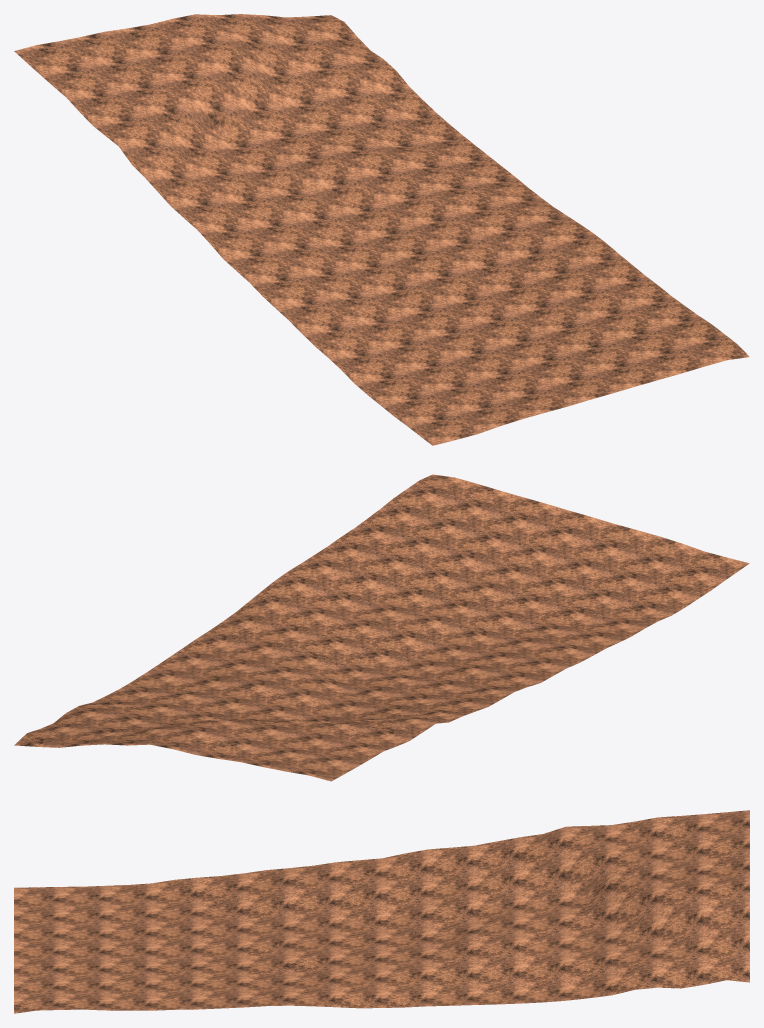
Rendered from terrain_04_23.dae.
3 views of the same model, one above another, from view 1: azimuth 30°, elevation 25°; view 2: azimuth 150°, elevation 25°; view 3: azimuth 270°, elevation 25° (orthographic). The views are drawn at different scales.
Parts seen in each view (by area): view 1: terrain_04_23-node; view 2: terrain_04_23-node; view 3: terrain_04_23-node.
Part boxes in pixels (x1,y1,x2,y2): terrain_04_23-node: (14,14,749,445); terrain_04_23-node: (14,474,749,781); terrain_04_23-node: (14,810,749,1013).
Bounding box in the file's own units: 56 × 128 × 14.98.
1 material, 1 textured.
